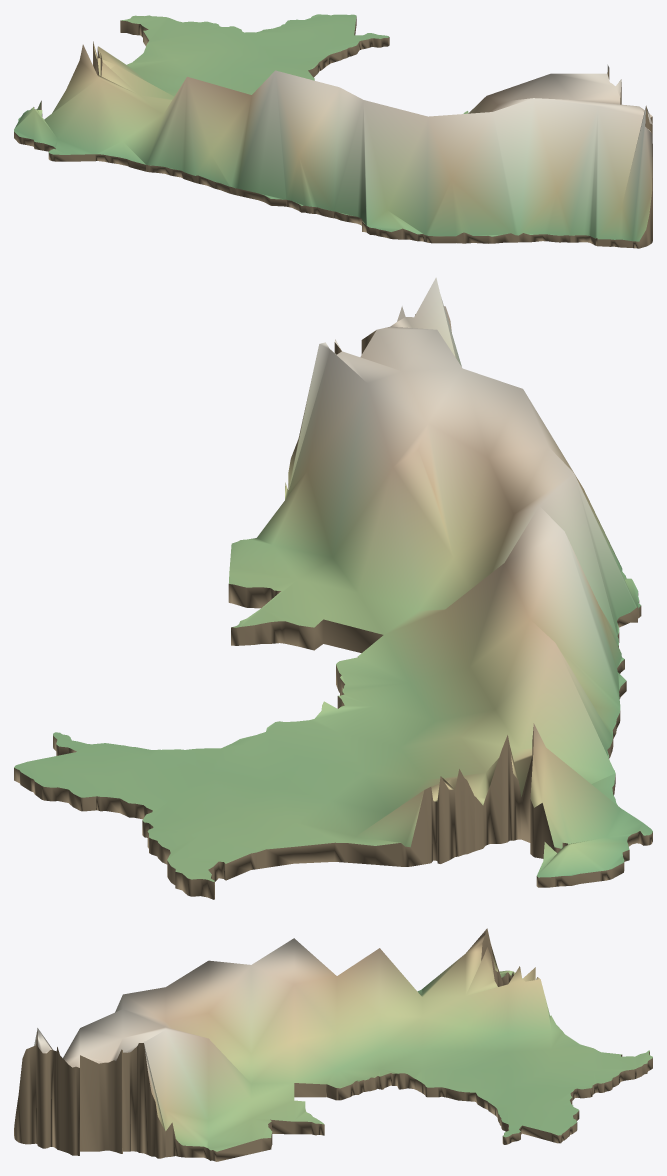
Rendered from PER.glb.
3 renders of one model, top to bottom at view 1: azimuth 30°, elevation 25°; view 2: azimuth 150°, elevation 25°; view 3: azimuth 270°, elevation 25°, orthographic. The views are drawn at different scales.
Parts seen in each view (by area): view 1: PER; view 2: PER; view 3: PER.
Boxes of the visible parts, x1,y1,x2,y2 form: PER: (14,14,652,248); PER: (14,277,652,899); PER: (14,928,652,1161).
Bounding box in the file's own units: 1.14 × 0.338 × 1.67.
